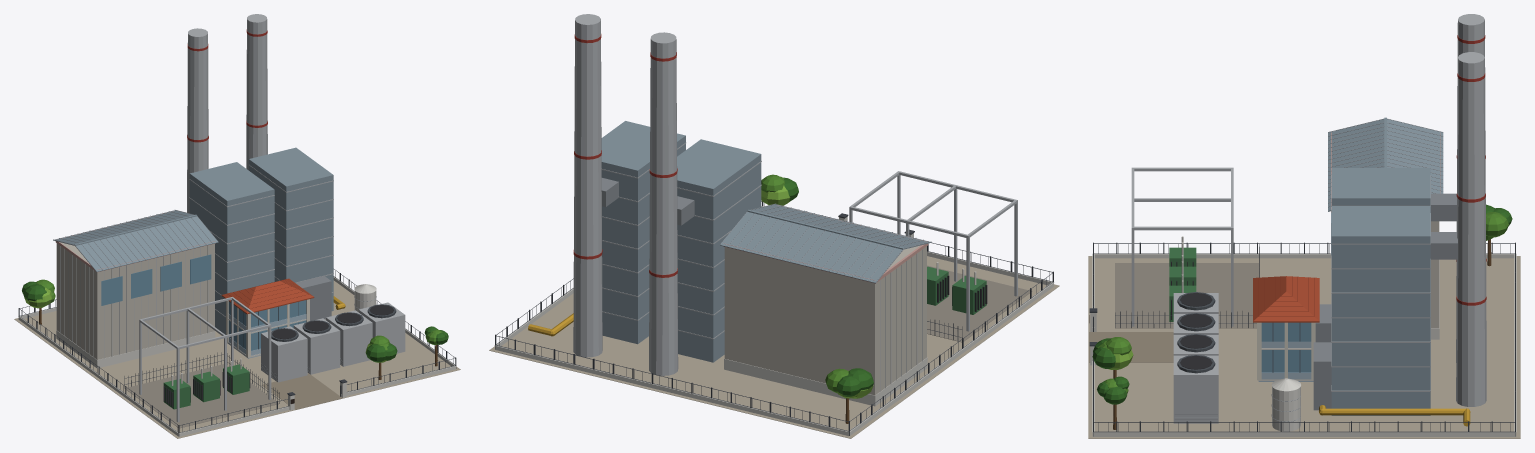
File: power_plant.glb
3 views of the same model, side by side, from view 1: azimuth 30°, elevation 25°; view 2: azimuth 150°, elevation 25°; view 3: azimuth 270°, elevation 25° (orthographic). The views are drawn at different scales.
Parts seen in each view (by area): view 1: body; view 2: body; view 3: body.
Boxes of the visible parts, bbox=[...] form: body: bbox=[14, 14, 460, 438]; body: bbox=[489, 14, 1059, 438]; body: bbox=[1088, 14, 1520, 438].
Bounding box in the file's own units: 48.28 × 42.03 × 47.9.
